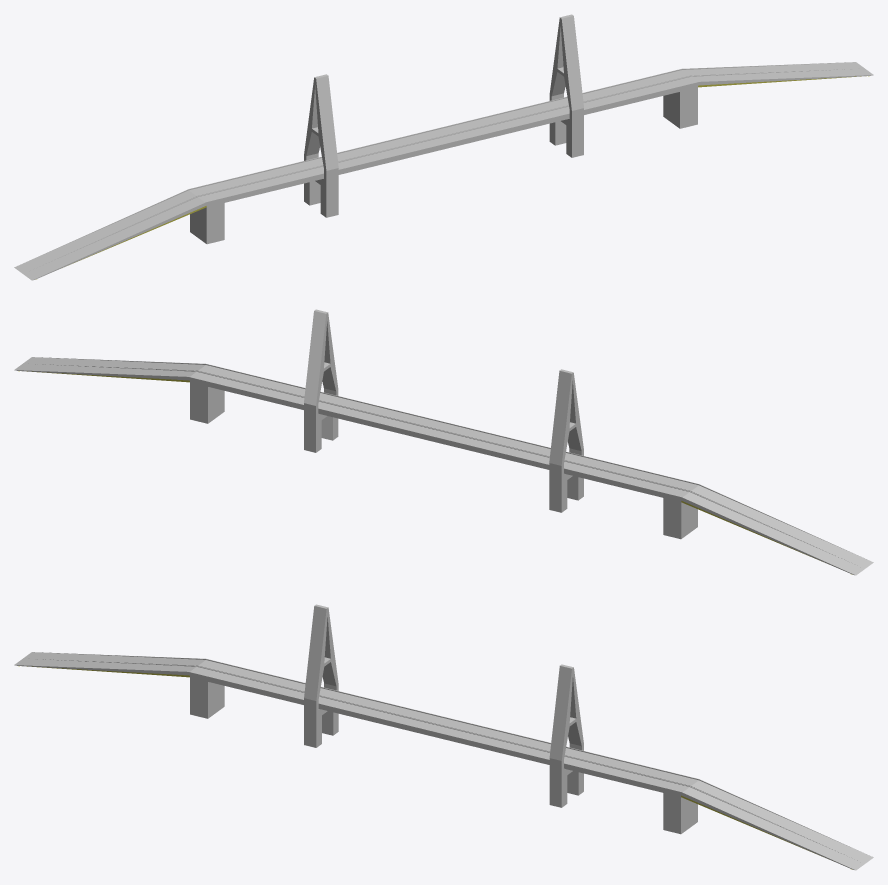
Rendered from bridge02.dae.
The picture shows the model from 3 angles, top to bottom: view 1: azimuth 30°, elevation 25°; view 2: azimuth 150°, elevation 25°; view 3: azimuth 330°, elevation 25°; orthographic projection.
Visible parts, largest first — view 1: SketchUp (×8); view 2: SketchUp (×9); view 3: SketchUp (×8).
Boxes of the visible parts, x1,y1,x2,y2 form: SketchUp (×8): [14, 14, 873, 280]; SketchUp (×9): [14, 309, 873, 575]; SketchUp (×8): [14, 604, 873, 870].
Bounding box in the file's own units: 56918 × 2615 × 8506.
